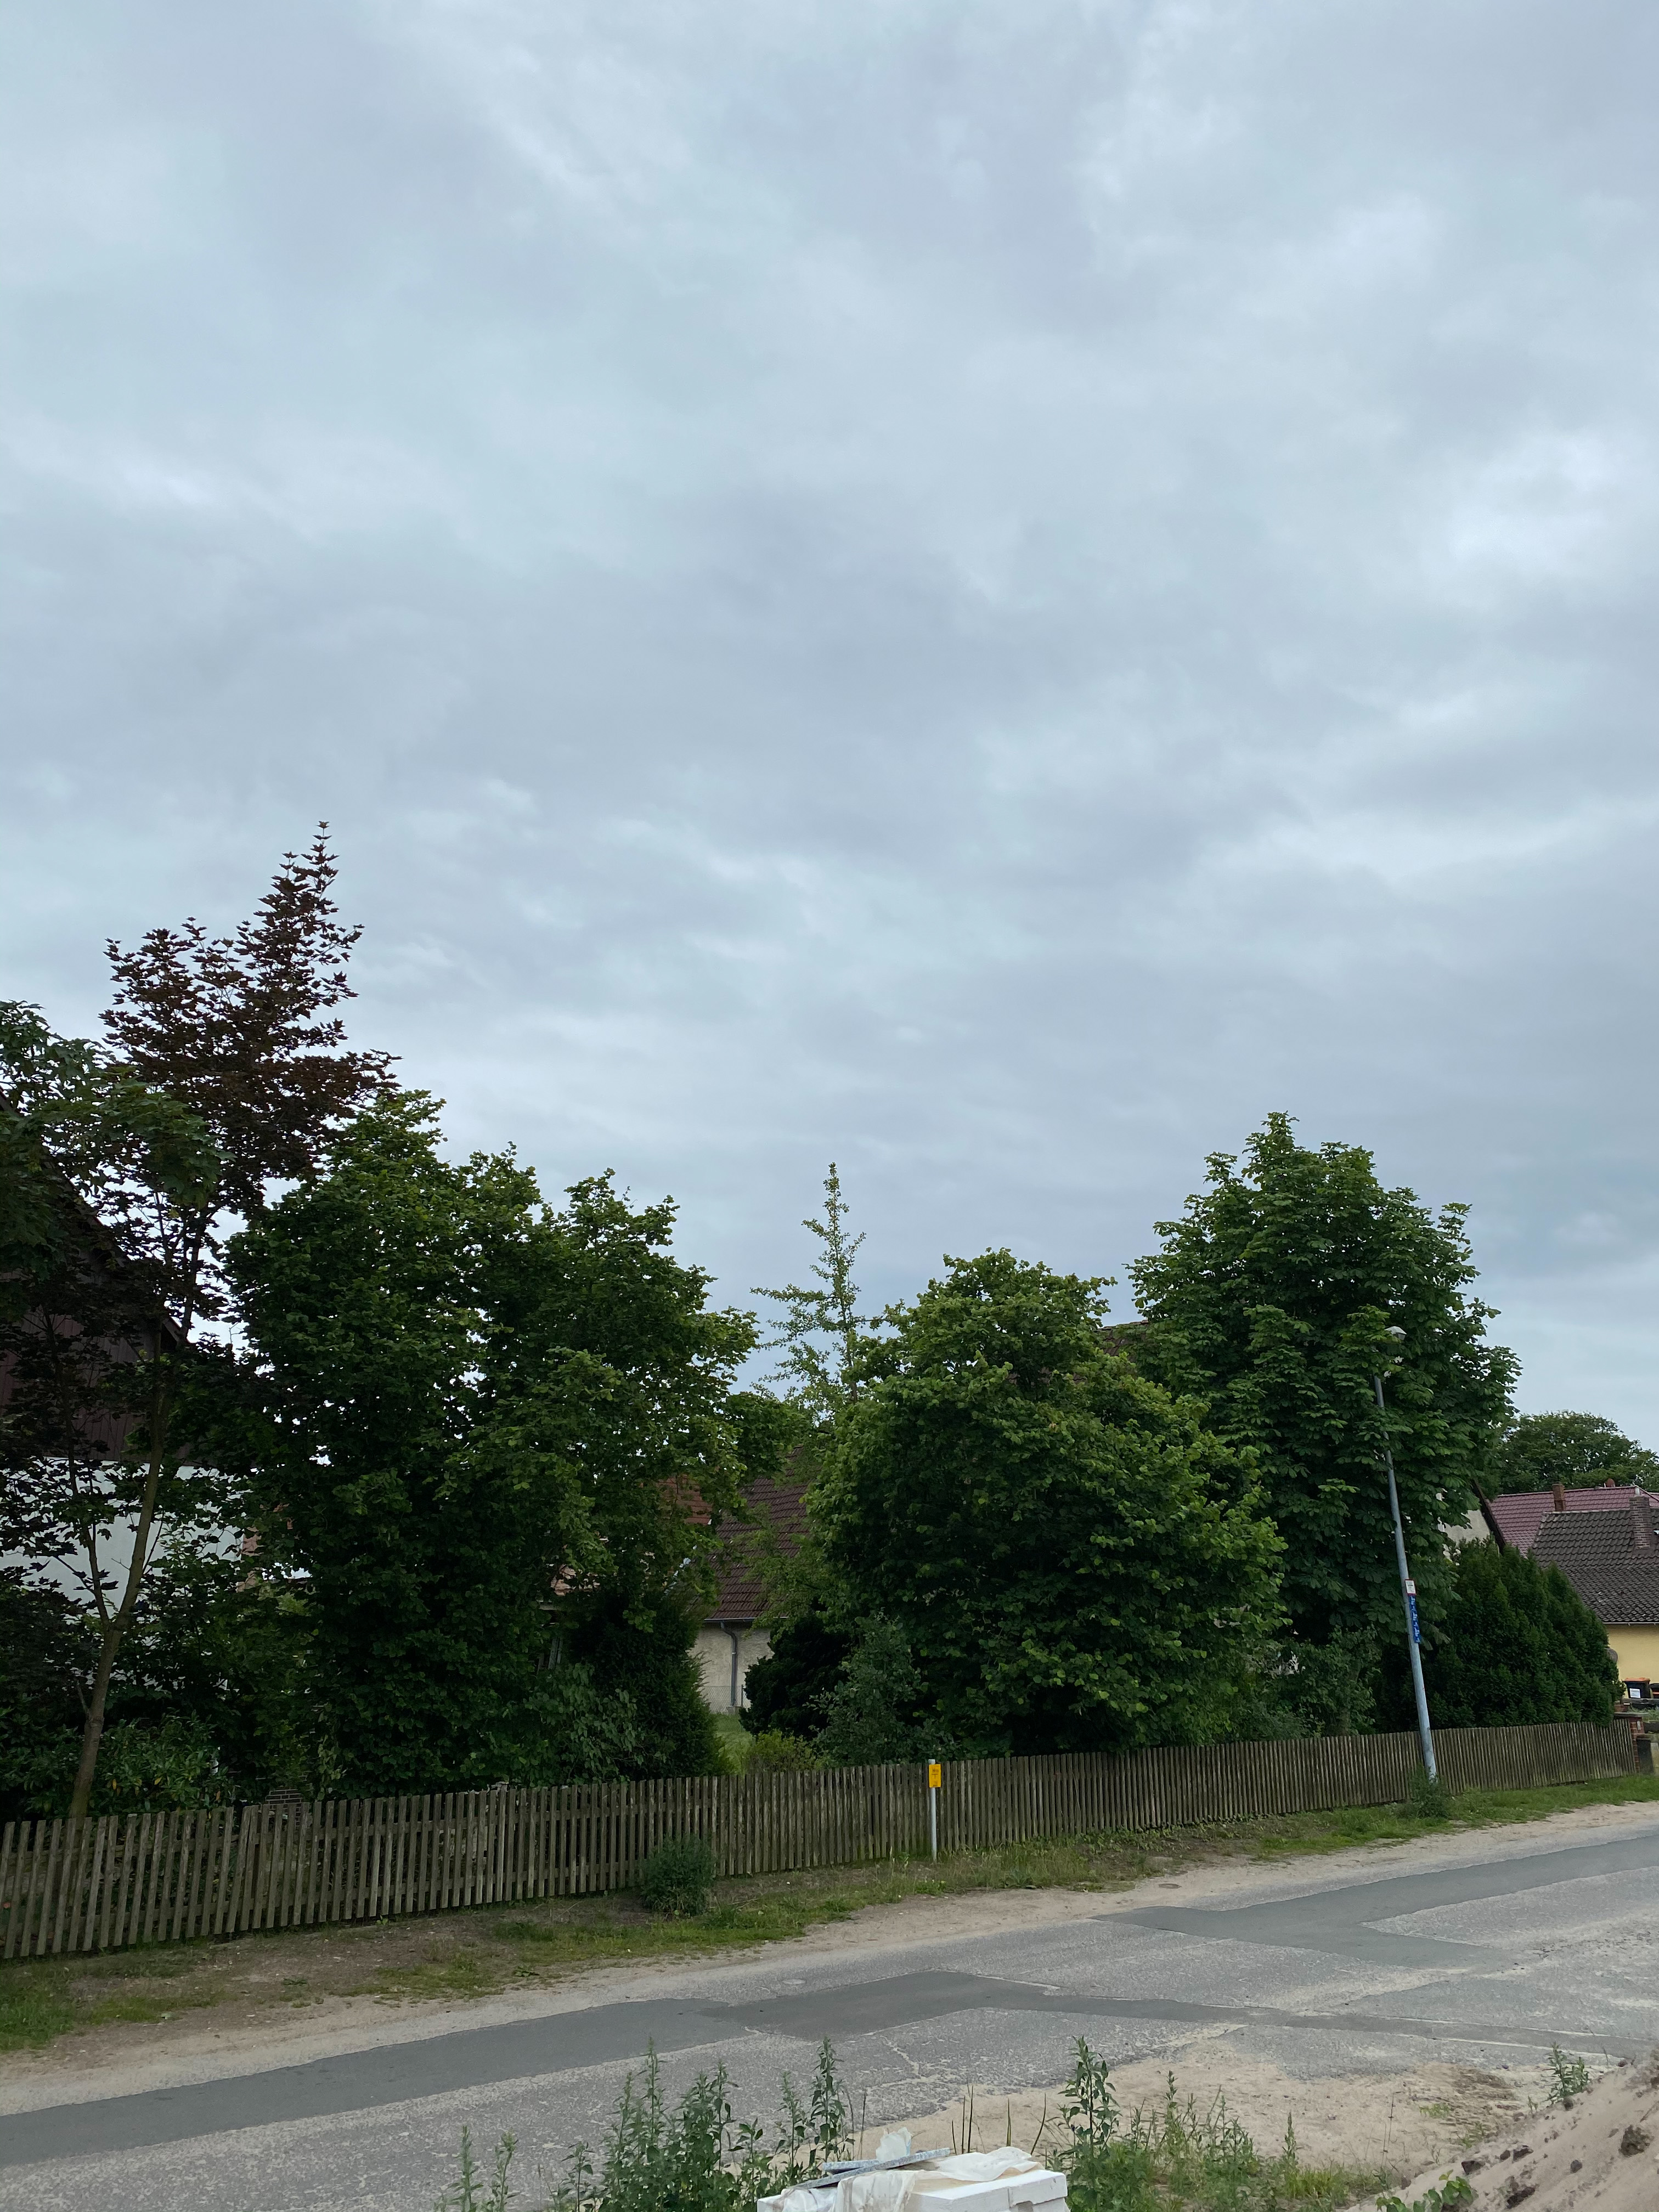tree: (0, 819, 404, 1811), (220, 1085, 817, 1620), (784, 1247, 1291, 1754), (1121, 1111, 1523, 1660), (749, 1163, 885, 1414)
